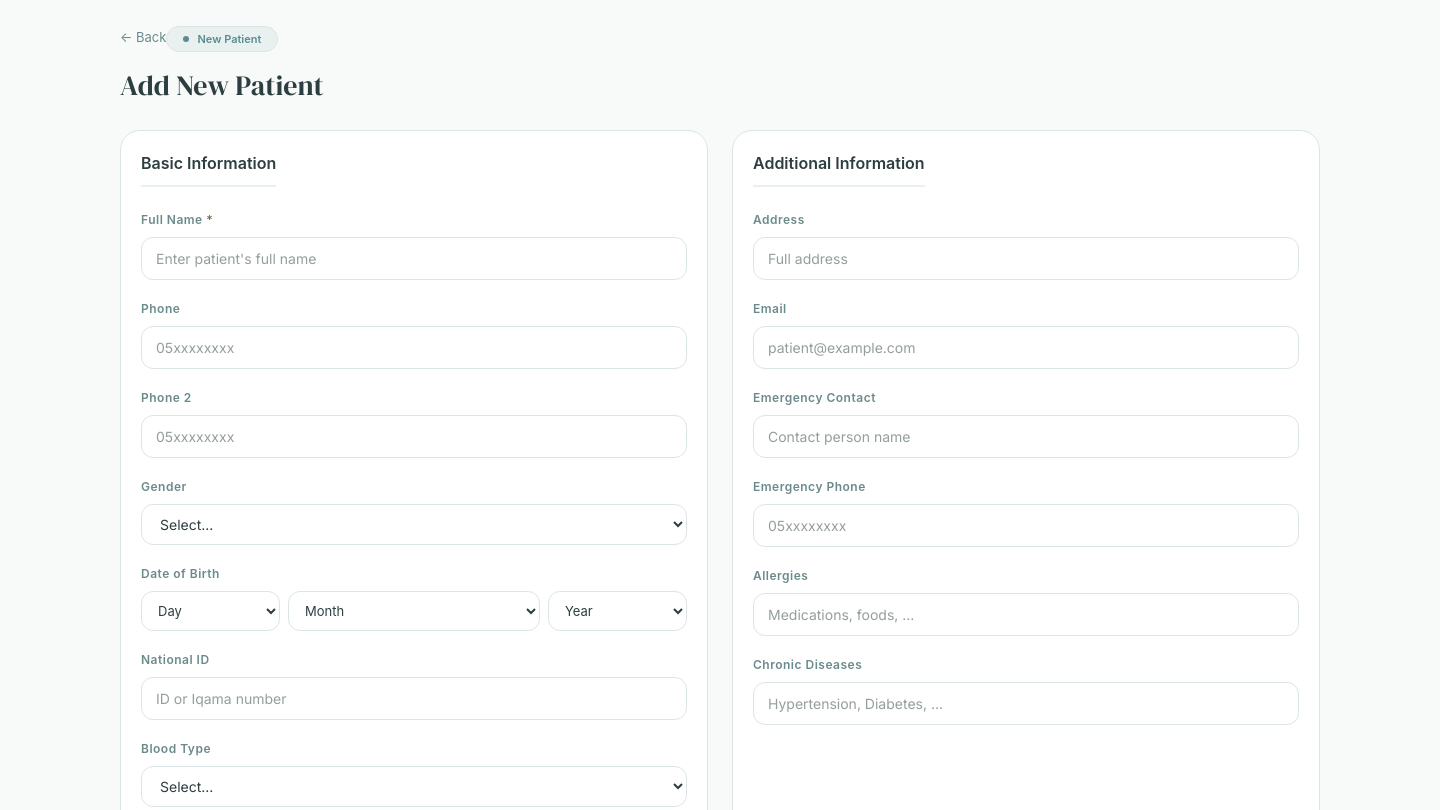
Test: AddPatient › shows a validation error for an invalid email and does not submit
In the field with placeholder "Enter patient's full name": (414, 259) [141,237,687,280], type "Sara Ahmad"
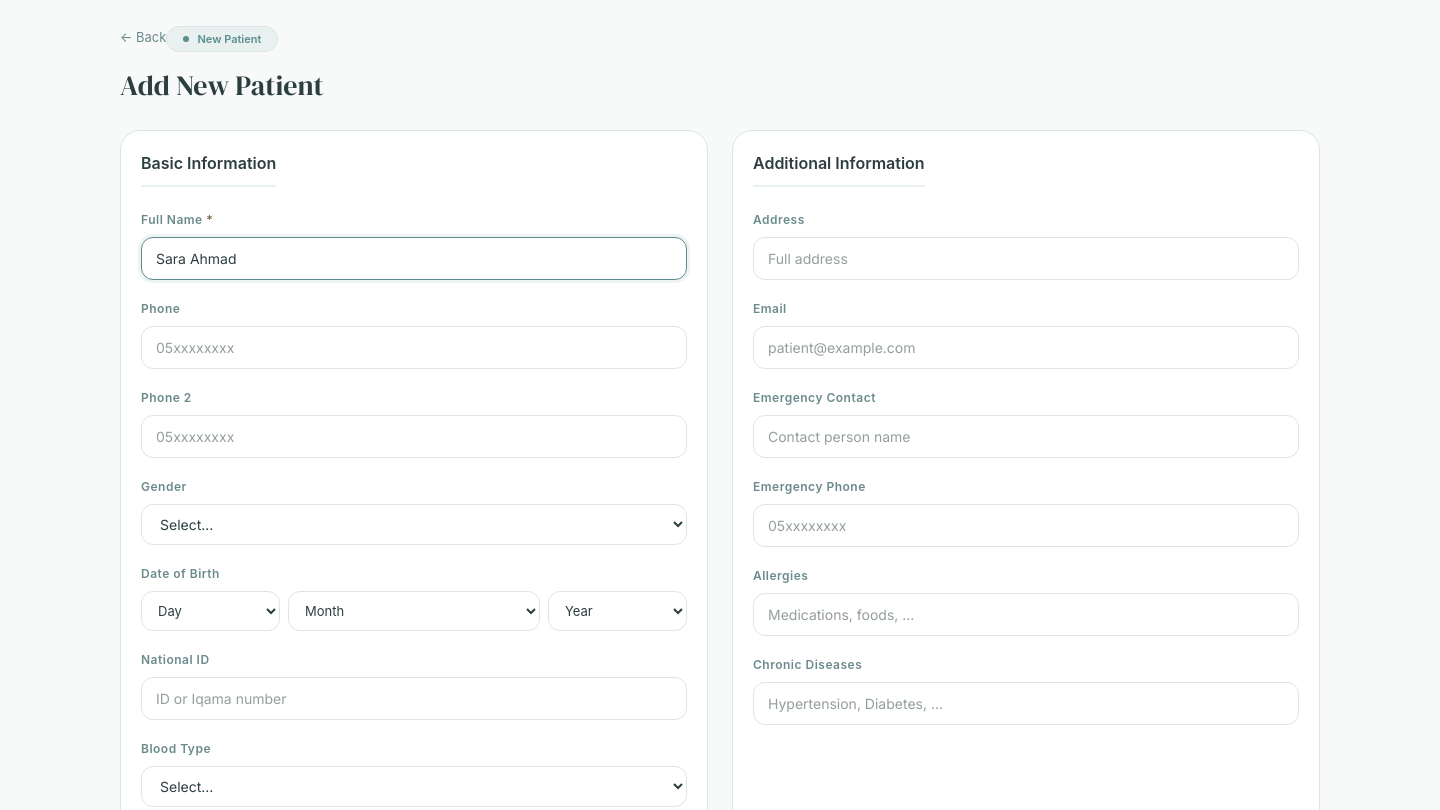
In the field with placeholder "patient@example.com": (1026, 348) [753,326,1299,369], type "sara@localhost"
(page scrolled)
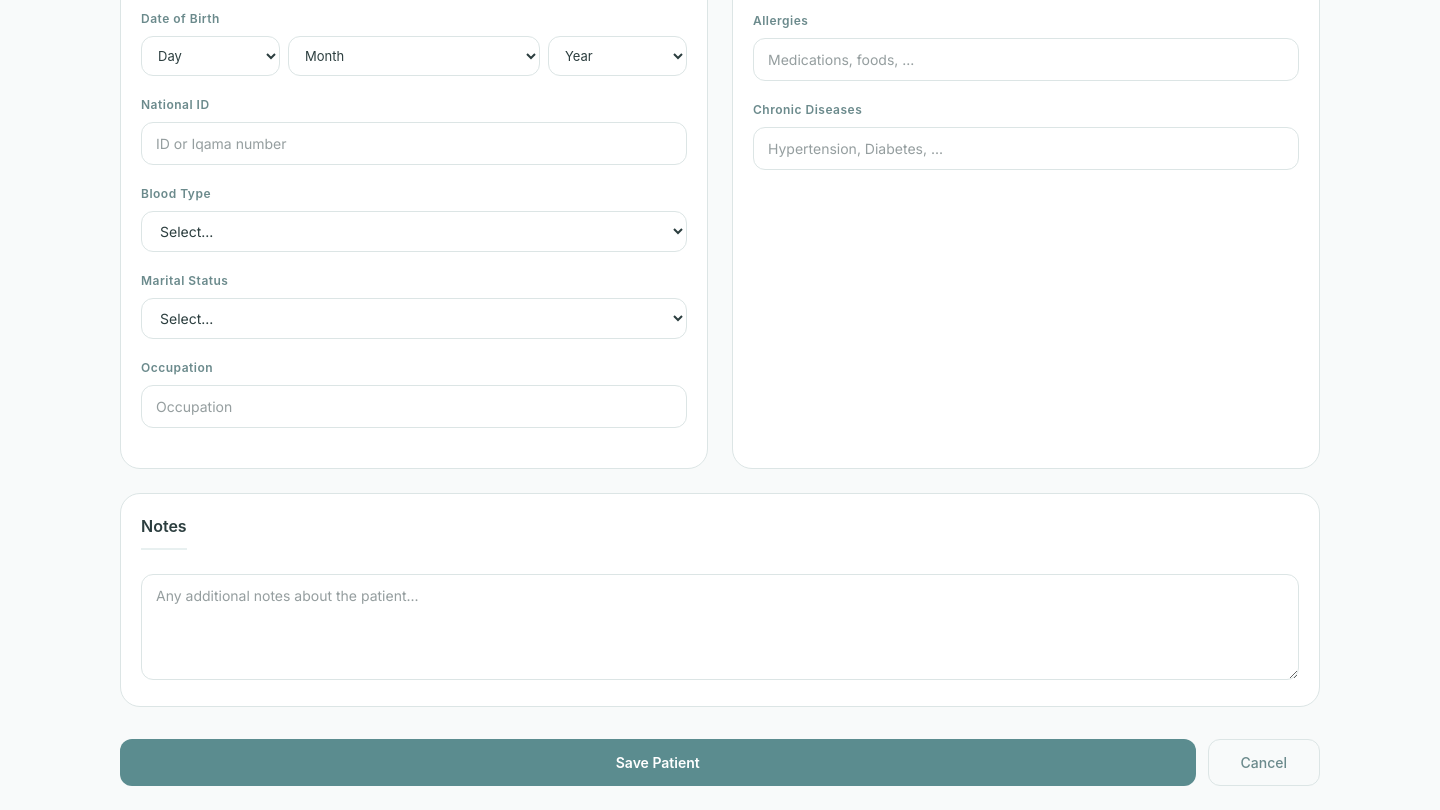
Click the button "Save Patient": click(658, 763) [120,739,1196,786]
(page scrolled)
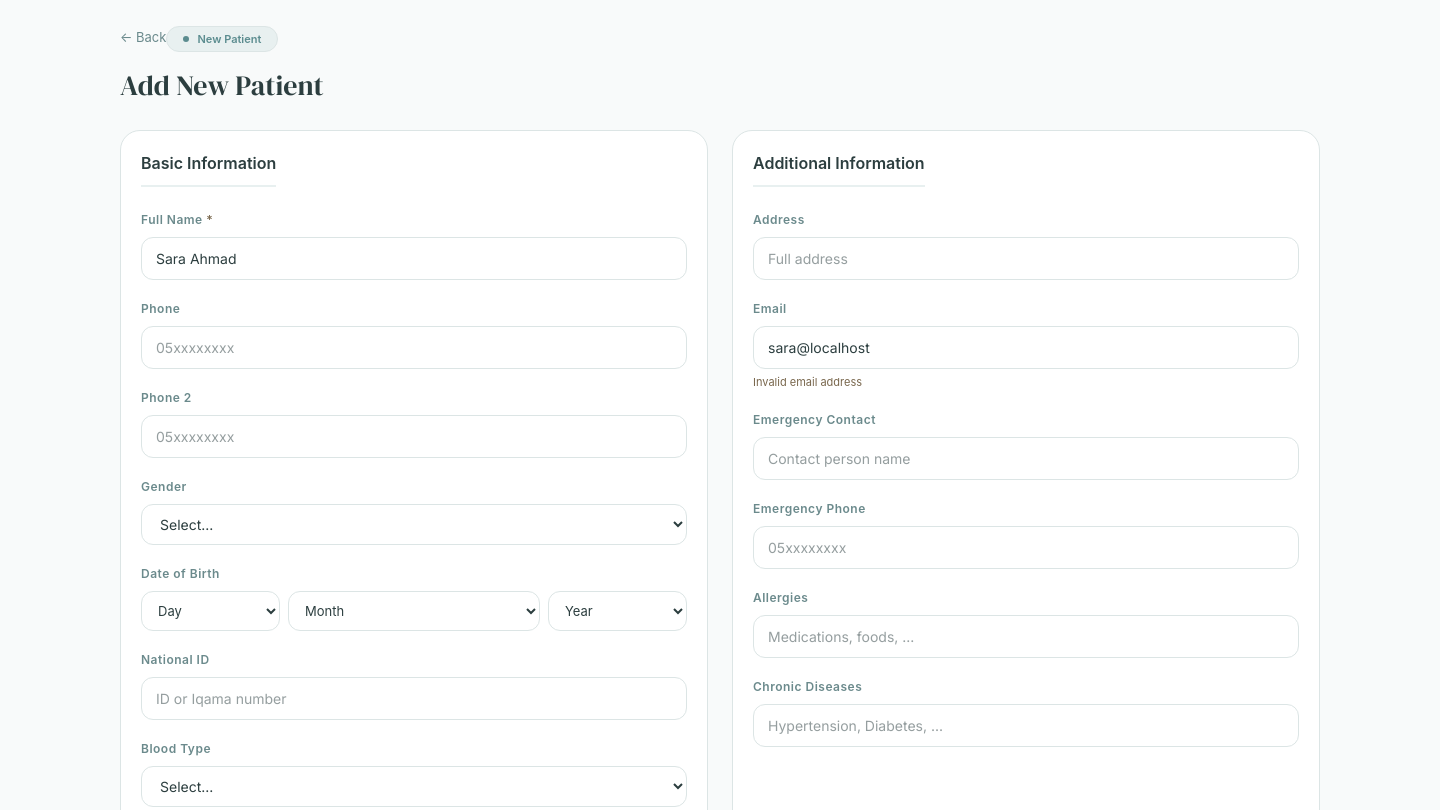
Now the text "Invalid email address" is shown, box [753,375,862,389]
